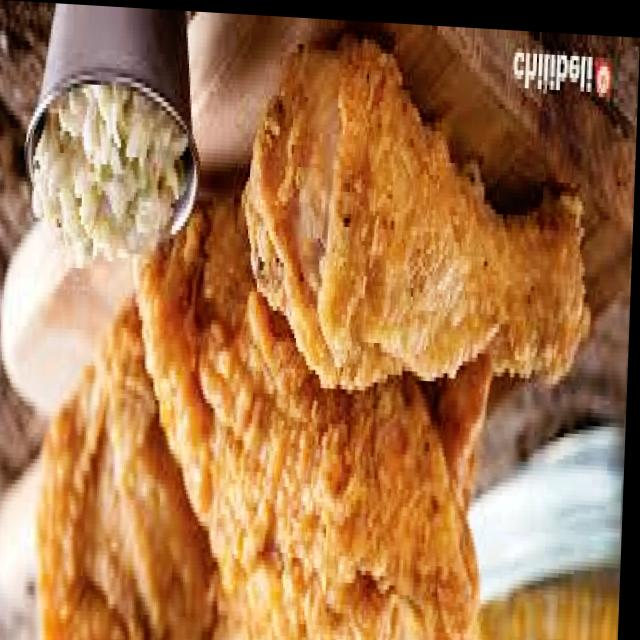fried_chicken: (121, 184, 492, 640), (37, 302, 490, 640), (240, 28, 599, 403), (32, 81, 186, 261)
